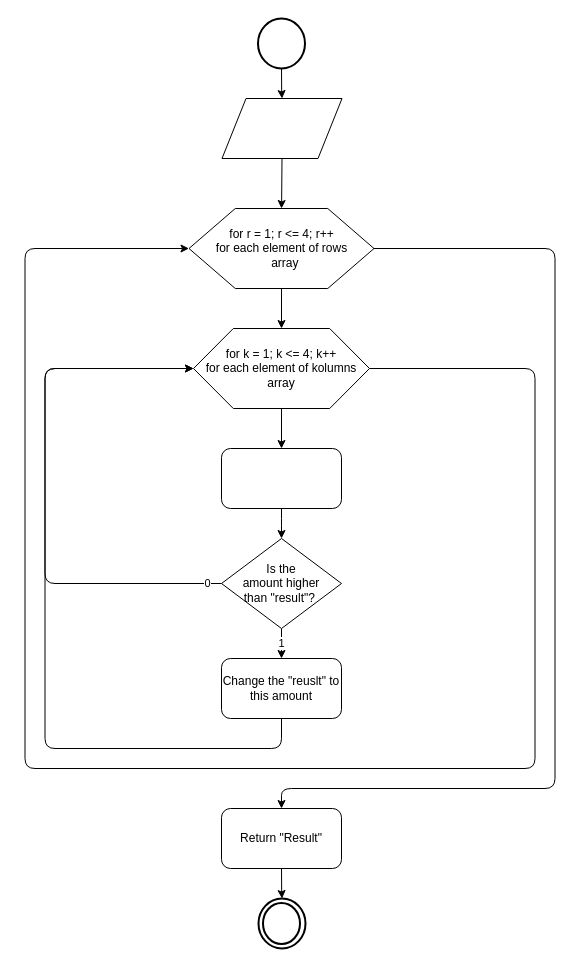
The diagram is 580 pixels wide and 966 high, and some of its shapes have lost their labels. Each missing label, with the centre of its shape:
Add up all elements of the hourglass: point 281,478
Set a minimum value as "result": point 281,128
